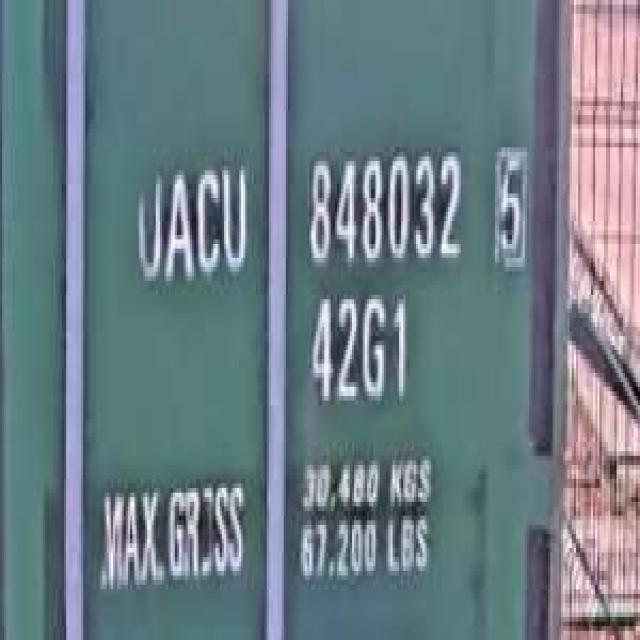dv: (486, 129, 534, 272)
owner: (128, 143, 252, 299)
serial: (301, 134, 467, 272)
size: (303, 281, 412, 410)
